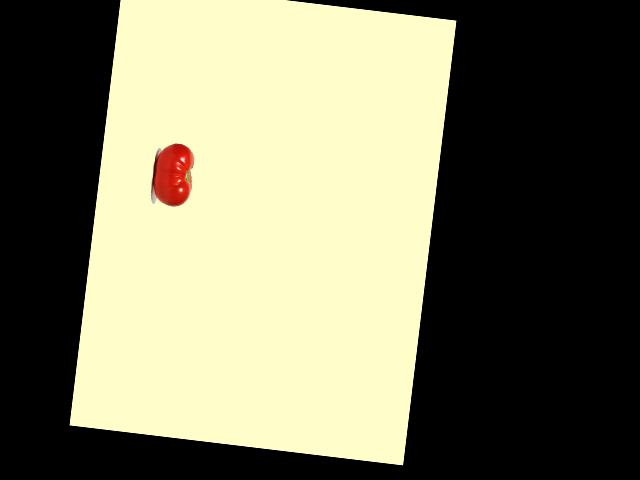tomato: (151, 140, 196, 207)
